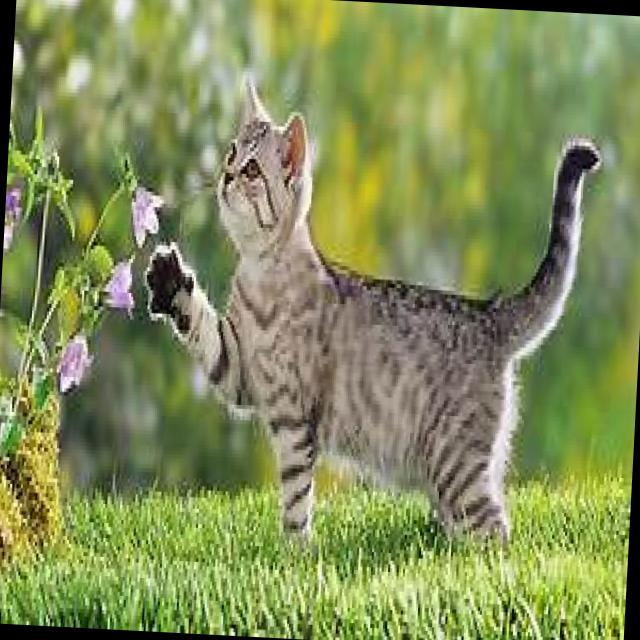cat: (134, 71, 604, 545)
